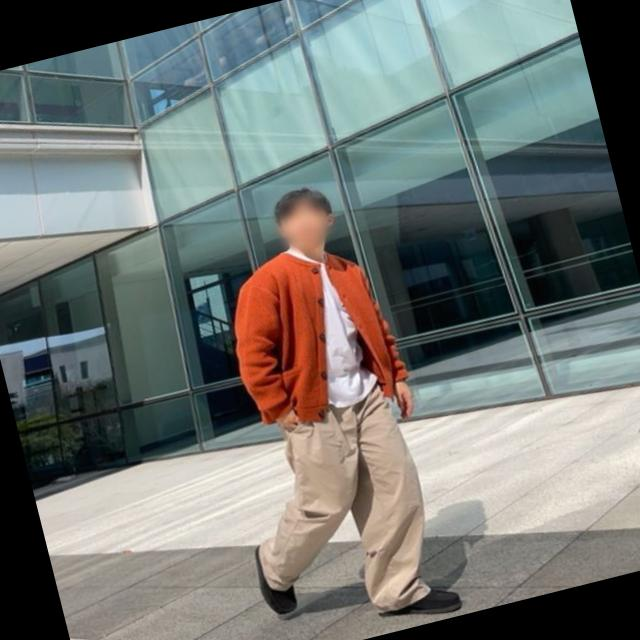cardigan: (214, 230, 418, 440)
cottonpants: (227, 381, 448, 639)
